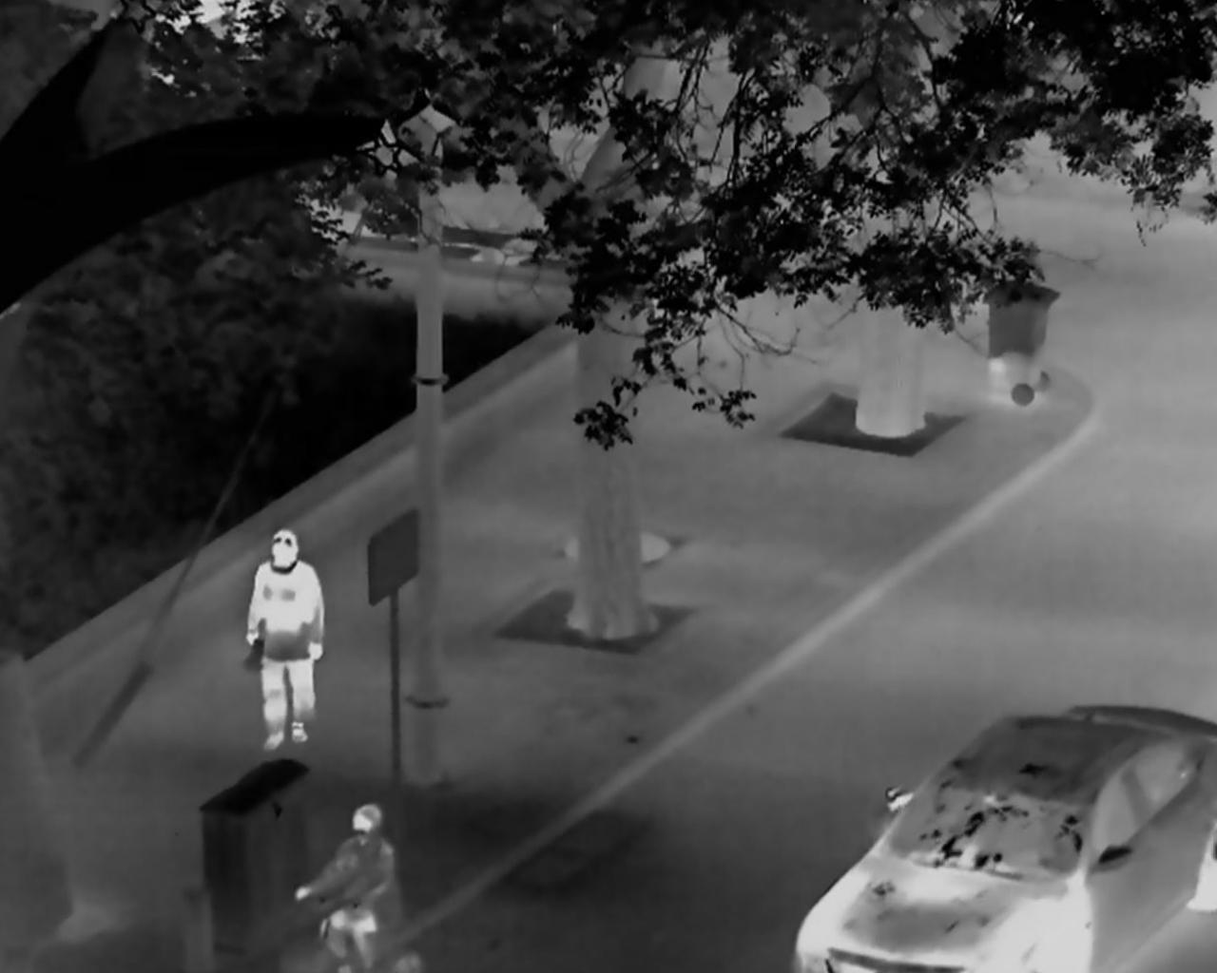person: (294, 803, 406, 973), (245, 527, 328, 752)
